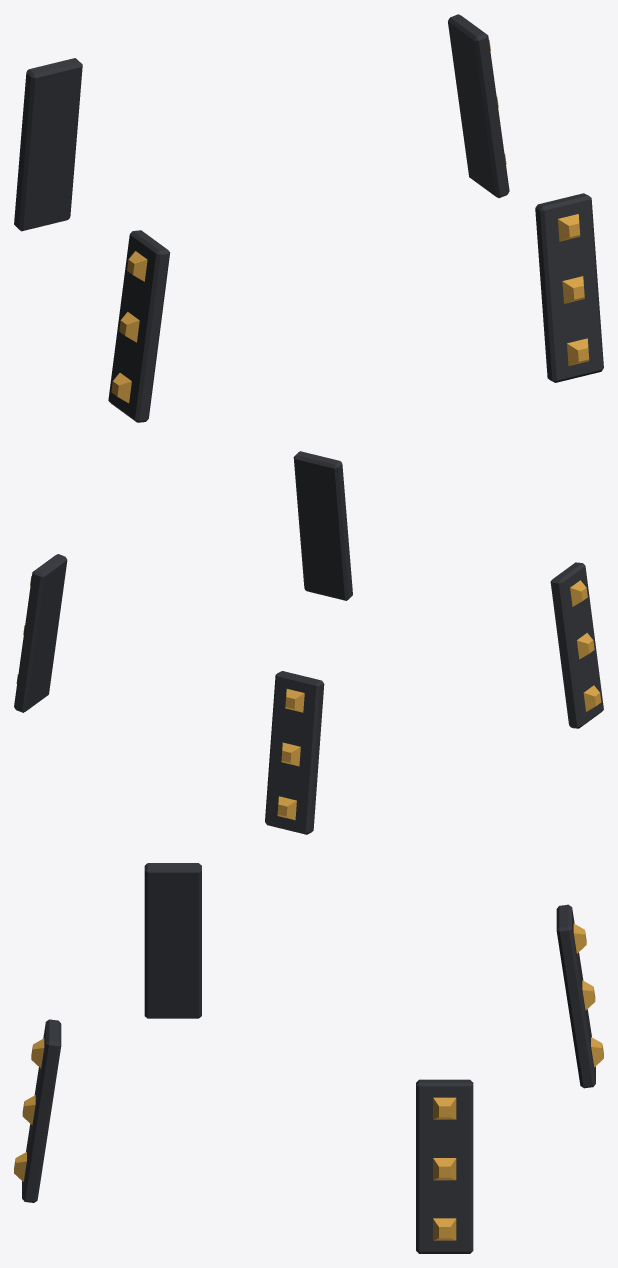
File: MortarKit5.obj
3 views of the same model, one above another, from view 1: azimuth 30°, elevation 25°; view 2: azimuth 150°, elevation 25°; view 3: azimuth 270°, elevation 25° (orthographic). The views are drawn at different scales.
Visible parts, largest first — view 1: MortarKit5; view 2: MortarKit5; view 3: MortarKit5.
Boxes of the visible parts, <box> form: MortarKit5: <box>14,14,603,422</box>; MortarKit5: <box>14,451,603,834</box>; MortarKit5: <box>14,863,603,1253</box>.
Bounding box in the file's own units: 1.13 × 0.3425 × 1.13.
